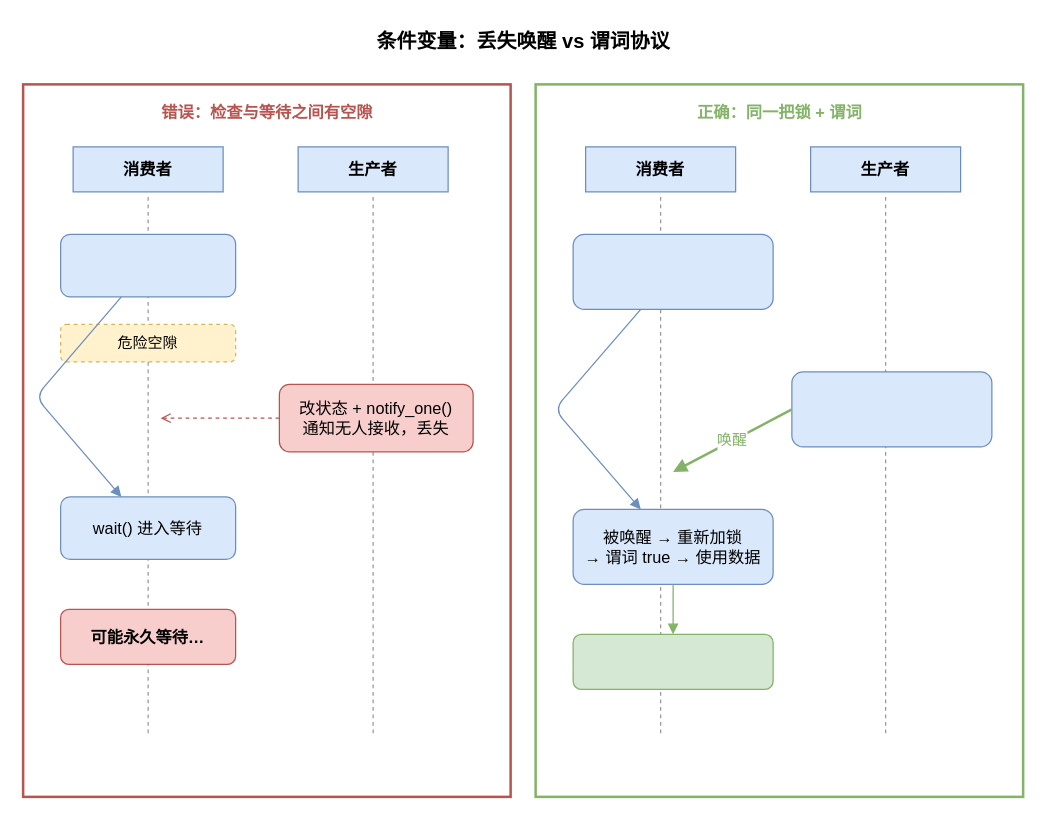
Some shapes in this 1045 by 819 pixel diagram are drawn without their labels. The shapes that lost their labels are listed below. From the top down, each one's centre as x and y in pixels, then its label:
the point at 147,265: if (!ready) 检查 （未持锁）
the point at 672,271: 加锁 → 检查谓词 false → 原子地解锁并 wait
the point at 891,409: 加锁 → 改状态 → 解锁 → notify_one()
the point at 672,661: 安全继续
